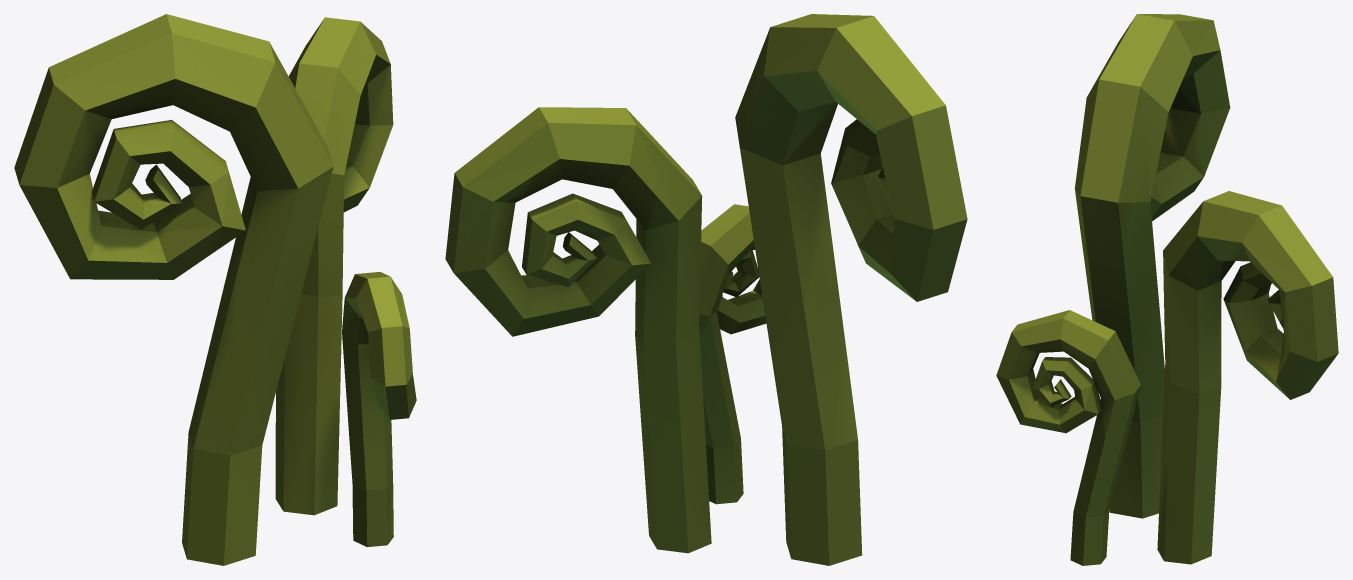
File: 35a80d6c-2ef5-4182-8d13-51dab53ce1c7.glb
The picture shows the model from 3 angles, left to right: view 1: azimuth 30°, elevation 25°; view 2: azimuth 150°, elevation 25°; view 3: azimuth 270°, elevation 25°; orthographic projection. The views are drawn at different scales.
Parts seen in each view (by area): view 1: Fiddlehead; view 2: Fiddlehead; view 3: Fiddlehead.
Part boxes in pixels (x1,y1,x2,y2): Fiddlehead: [14, 14, 416, 565]; Fiddlehead: [445, 14, 967, 565]; Fiddlehead: [996, 14, 1338, 565].
Size of the model in its own units: 1.73 by 2 by 1.33.
Materials: 1 (1 with a texture image).
